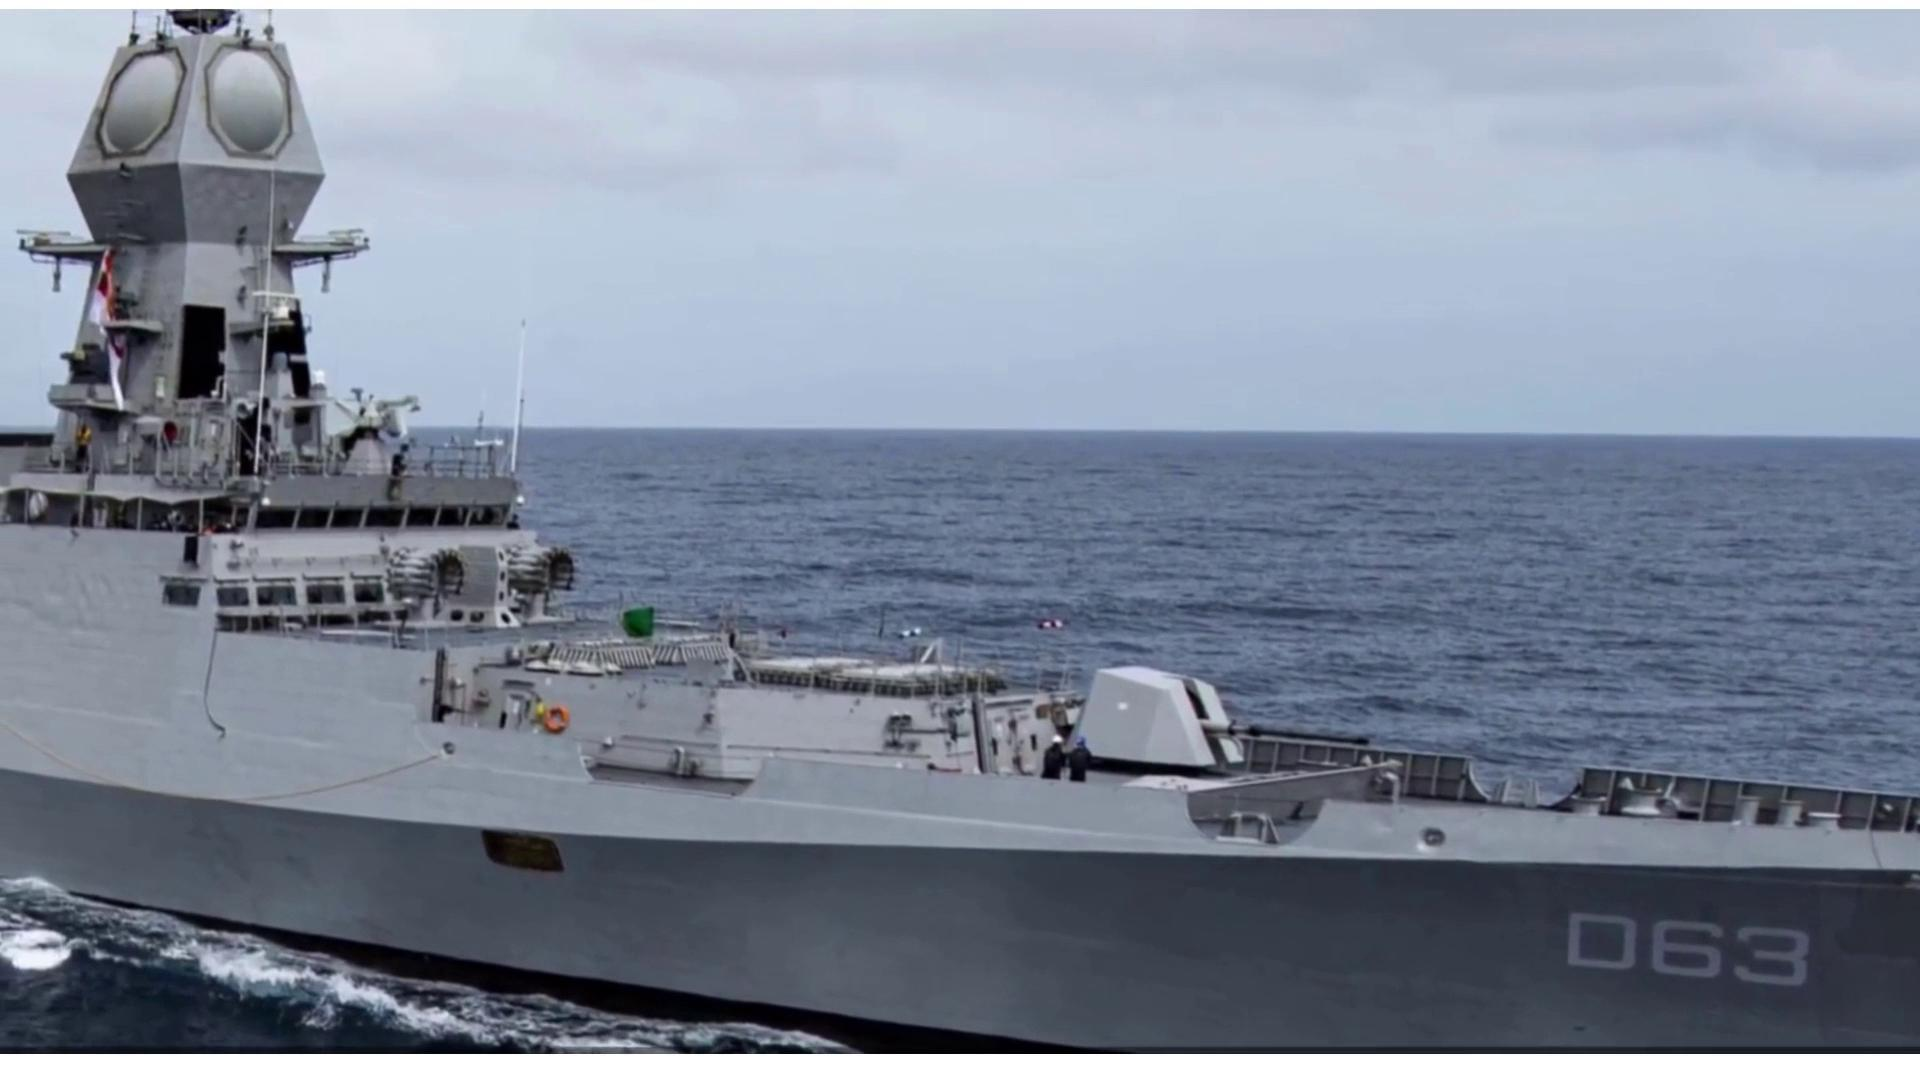OCR: (1547, 898, 1821, 997)
